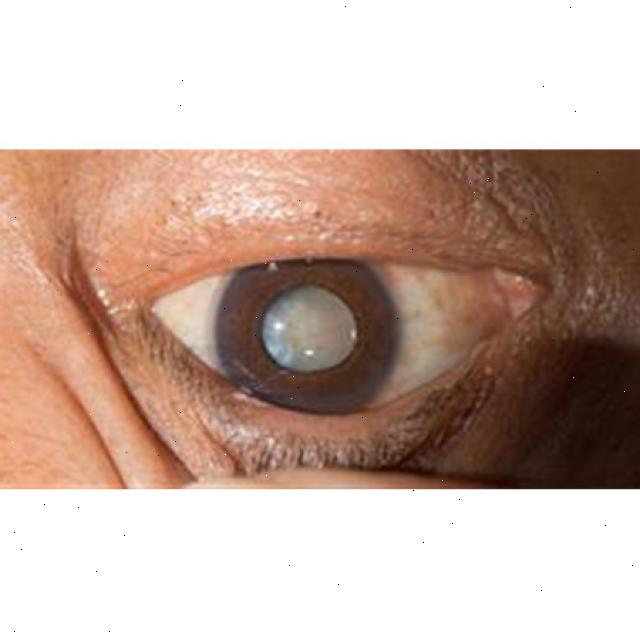Cataract: (207, 245, 393, 423)
